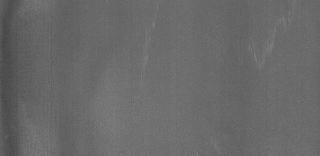silk spot: (228, 19, 284, 79)
